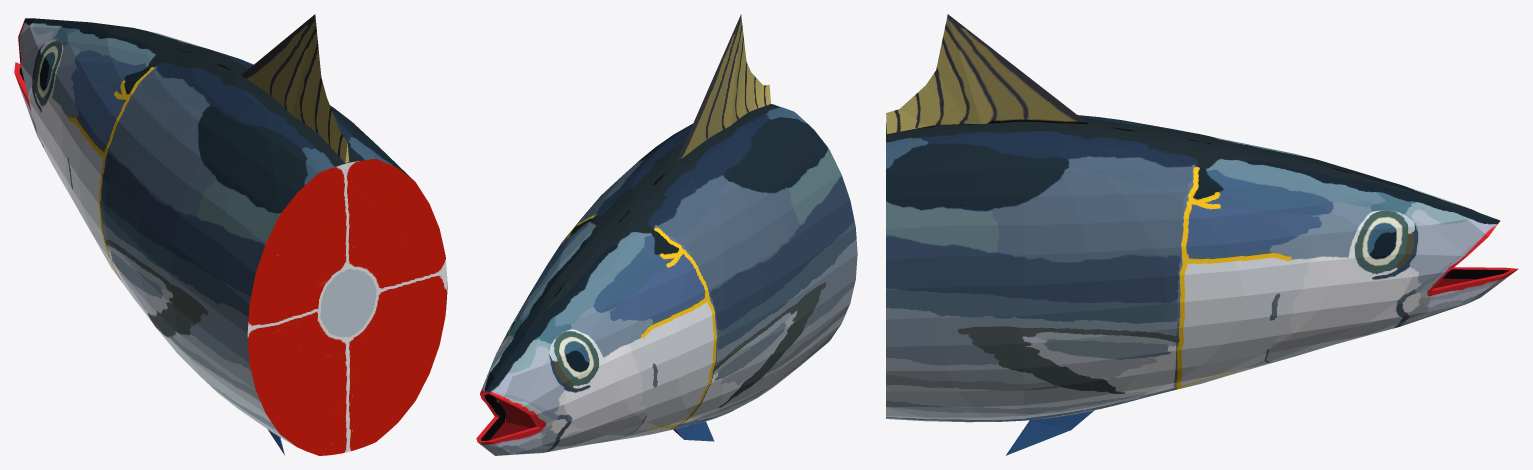
File: fish1.fbx
3 views of the same model, side by side, from view 1: azimuth 30°, elevation 25°; view 2: azimuth 150°, elevation 25°; view 3: azimuth 270°, elevation 25° (orthographic). The views are drawn at different scales.
Parts seen in each view (by area): view 1: Sphere; view 2: Sphere; view 3: Sphere.
Part boxes in pixels (<box>): Sphere: <box>14,14,447,455</box>; Sphere: <box>476,14,857,455</box>; Sphere: <box>886,14,1518,455</box>.
Bounding box in the file's own units: 200 × 425 × 552.
